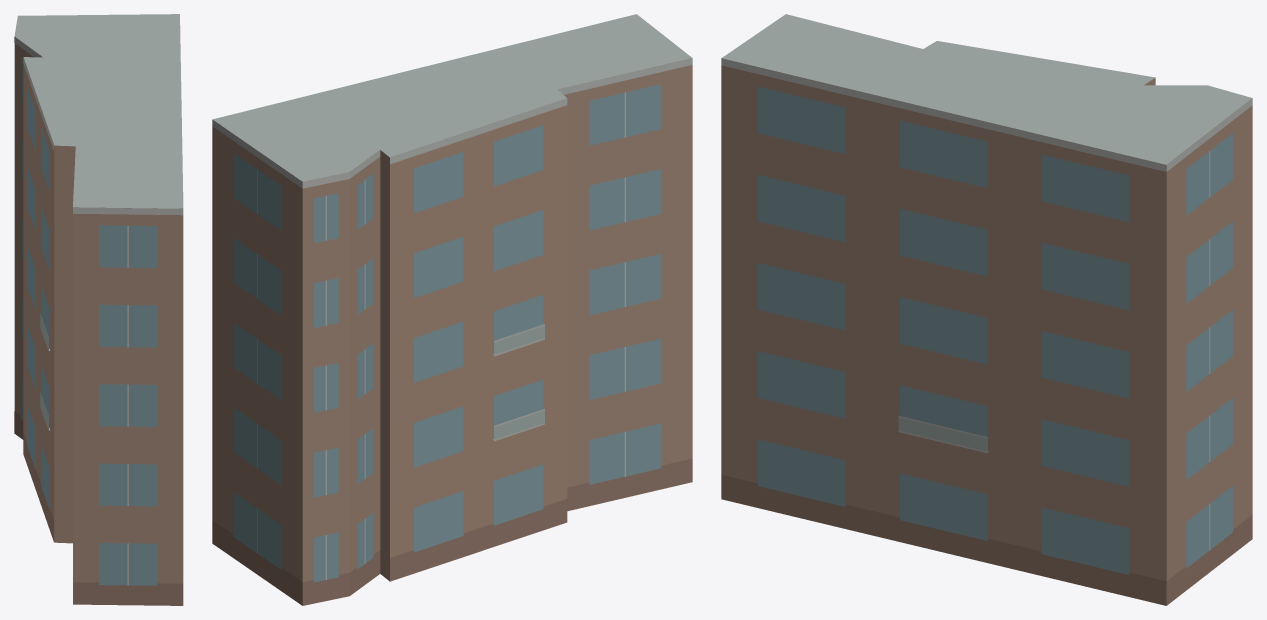
Rendered from survey-upis-32977306.glb.
3 renders of one model, left to right at view 1: azimuth 30°, elevation 25°; view 2: azimuth 150°, elevation 25°; view 3: azimuth 270°, elevation 25°, orthographic. The views are drawn at different scales.
Visible parts, largest first — view 1: survey-upis-32977306.tmp; view 2: survey-upis-32977306.tmp; view 3: survey-upis-32977306.tmp.
Boxes of the visible parts, x1,y1,x2,y2 form: survey-upis-32977306.tmp: [14, 14, 183, 605]; survey-upis-32977306.tmp: [212, 14, 692, 605]; survey-upis-32977306.tmp: [721, 14, 1252, 605].
Bounding box in the file's own units: 11.09 × 15.1 × 16.5.
